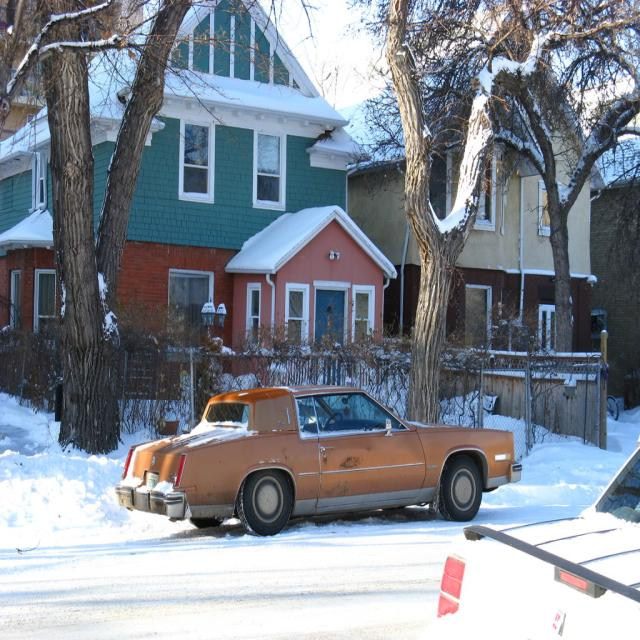car: (113, 387, 523, 537)
